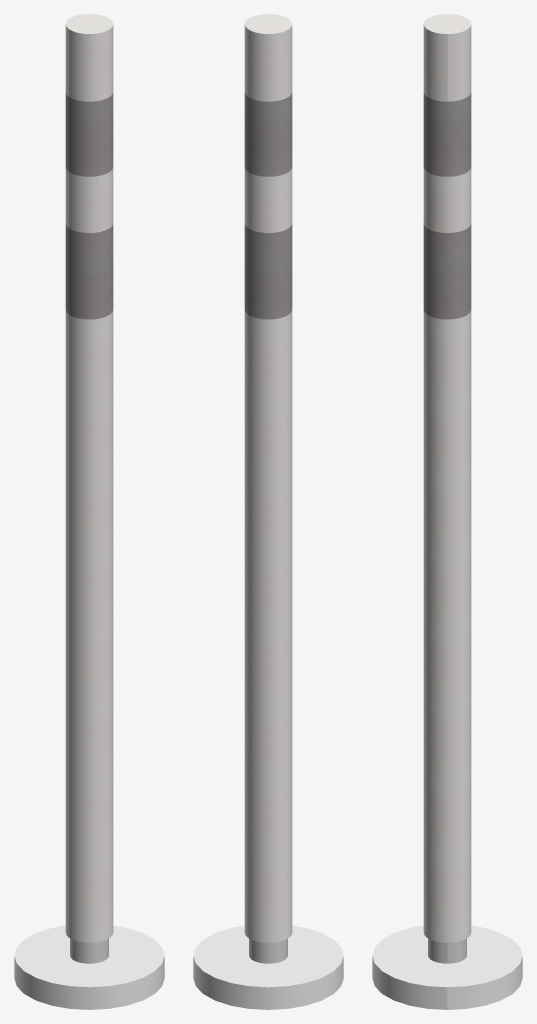
File: Tubular_Marker.obj
The picture shows the model from 3 angles, left to right: view 1: azimuth 30°, elevation 25°; view 2: azimuth 150°, elevation 25°; view 3: azimuth 270°, elevation 25°; orthographic projection.
Parts seen in each view (by area): view 1: Mesh1 Model; view 2: Mesh1 Model; view 3: Mesh1 Model.
Boxes of the visible parts, x1,y1,x2,y2 form: Mesh1 Model: [14, 14, 164, 1009]; Mesh1 Model: [193, 14, 343, 1009]; Mesh1 Model: [372, 14, 522, 1009].
Size of the model in its own units: 0.1816 by 1.27 by 0.1816.
4 materials, 2 textured.
